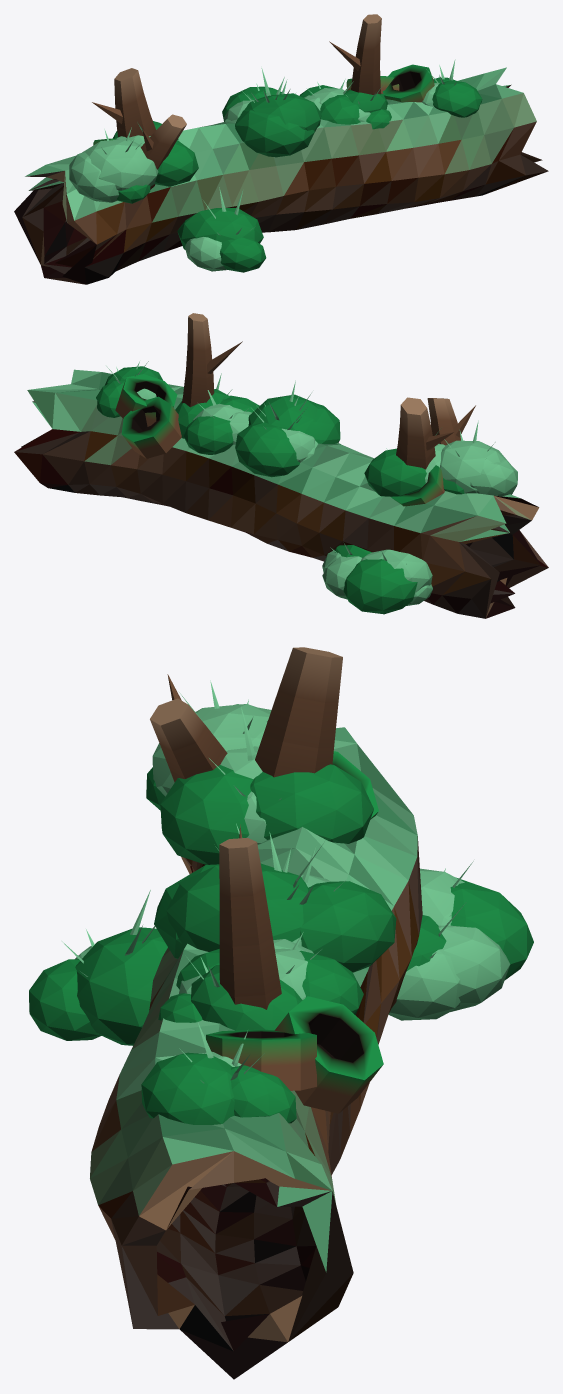
File: pohon_tumbang_hollow_rainforest_517077 (3).glb
3 views of the same model, one above another, from view 1: azimuth 30°, elevation 25°; view 2: azimuth 150°, elevation 25°; view 3: azimuth 270°, elevation 25° (orthographic). The views are drawn at different scales.
Parts seen in each view (by area): view 1: Batang_Pohon_Berlubang; view 2: Batang_Pohon_Berlubang; view 3: Batang_Pohon_Berlubang.
Part boxes in pixels (left/top/right/bottom): Batang_Pohon_Berlubang: left=14, top=14, right=548, bottom=284; Batang_Pohon_Berlubang: left=14, top=313, right=548, bottom=618; Batang_Pohon_Berlubang: left=29, top=647, right=533, bottom=1379.
Bounding box in the file's own units: 7.56 × 3.05 × 3.5.
